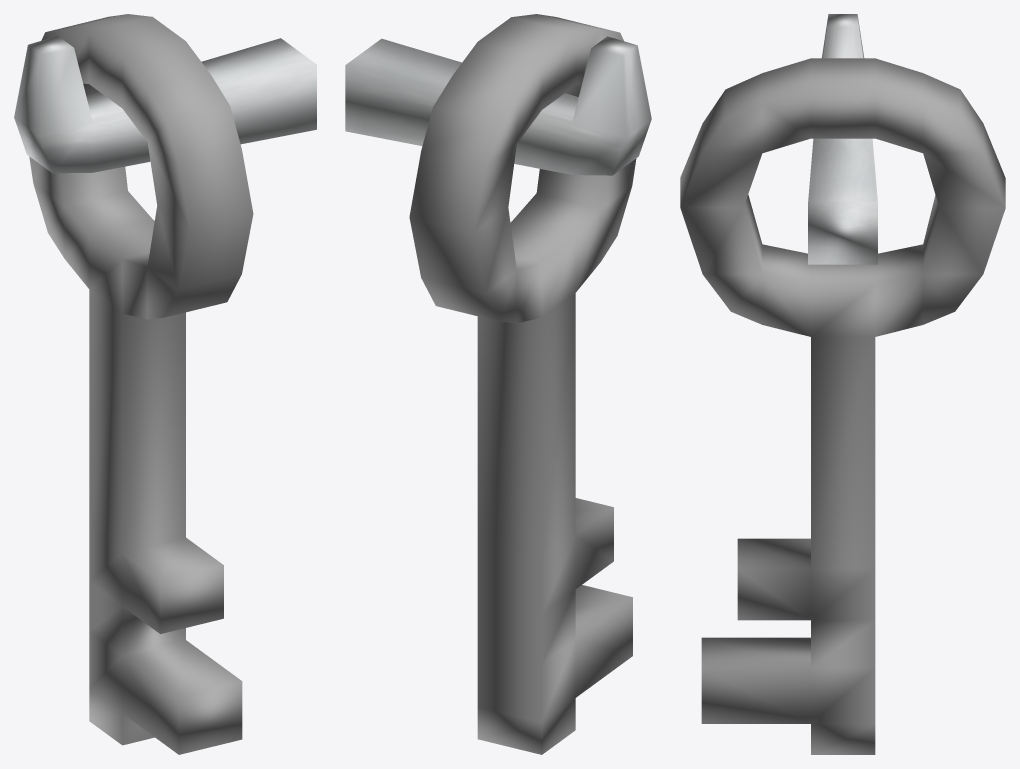
Rendered from KeyAndHook.fbx.
The picture shows the model from 3 angles, left to right: view 1: azimuth 30°, elevation 25°; view 2: azimuth 150°, elevation 25°; view 3: azimuth 270°, elevation 25°; orthographic projection. The views are drawn at different scales.
Parts seen in each view (by area): view 1: pCube1, pCube2; view 2: pCube1, pCube2; view 3: pCube1, pCube2.
Part boxes in pixels (left/top/right/bottom): pCube1: left=29, top=14, right=253, bottom=754; pCube2: left=14, top=36, right=316, bottom=173; pCube1: left=409, top=14, right=636, bottom=754; pCube2: left=345, top=36, right=651, bottom=175; pCube1: left=680, top=58, right=1005, bottom=754; pCube2: left=808, top=14, right=877, bottom=264.
Bounding box in the file's own units: 1.08 × 2.67 × 1.16.
